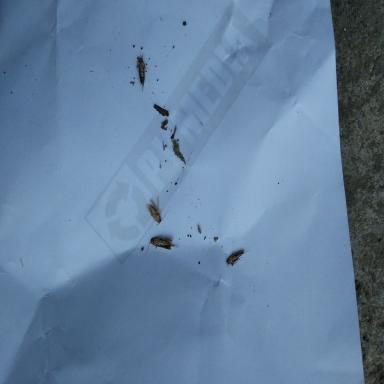pbw: (144, 196, 171, 226), (143, 236, 178, 255), (136, 54, 149, 92), (226, 250, 250, 266)
